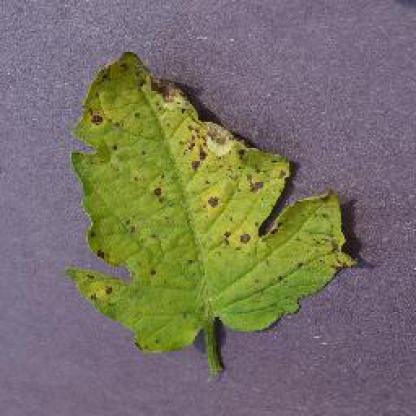bad leaf: (37, 46, 359, 378)
